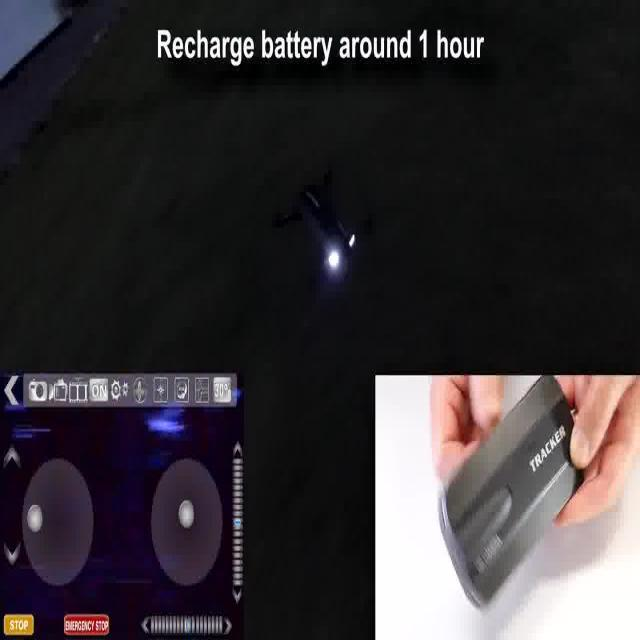drones: (254, 145, 387, 317)
